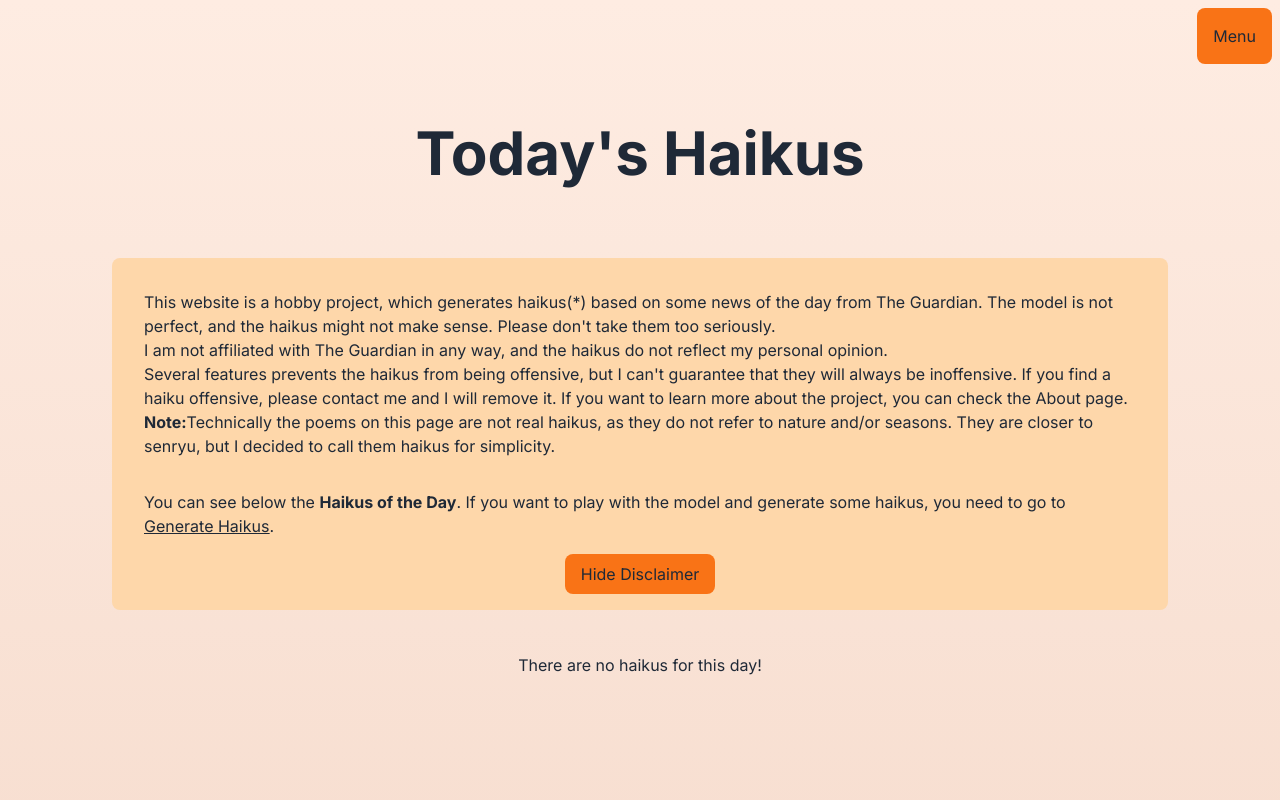
Test case: Visiting homepage › Visiting homepage - testing the disclaimer
Check: the heading "Today's Haikus" is shown, box [415,123,865,183]
Check: the text "This website is a hobby project" is shown, box [144,292,876,312]
Step 1. Click the button "Hide Disclaimer" → coordinates (641, 574), box [565,554,716,594]
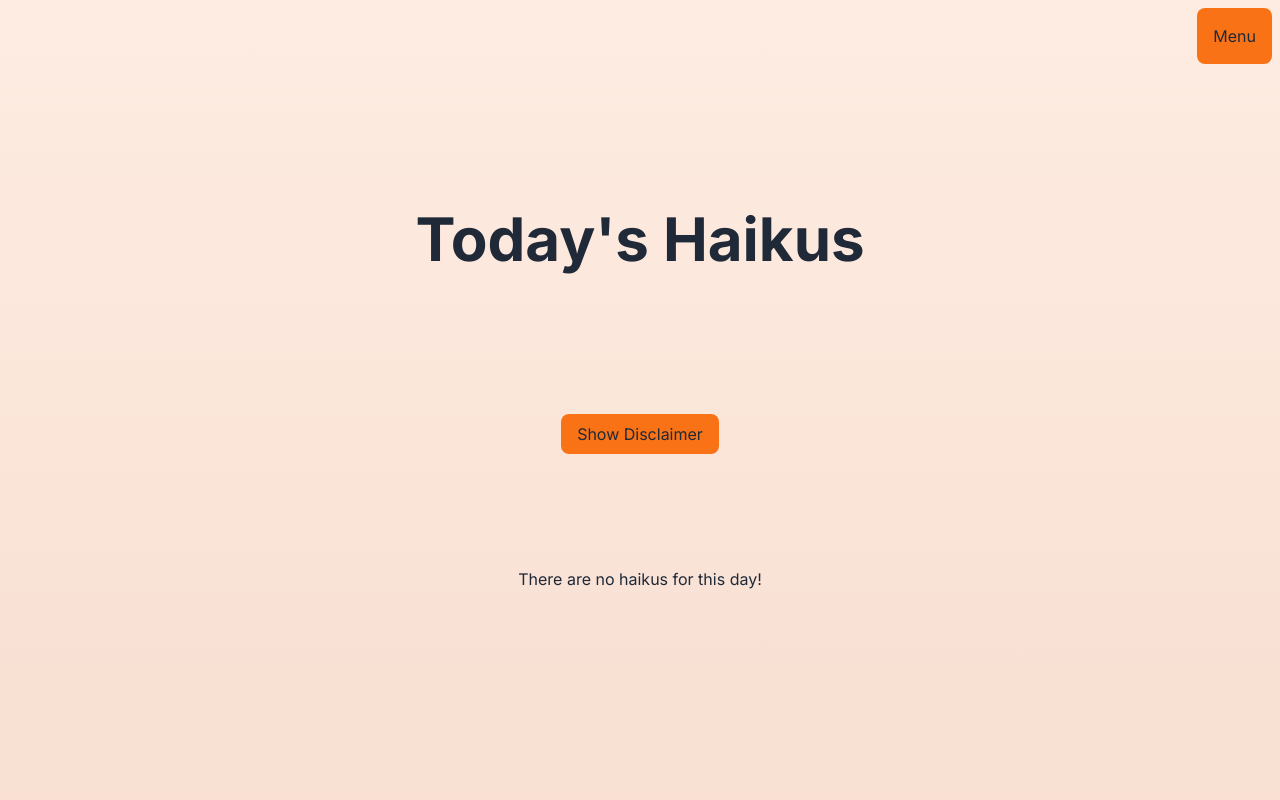
Check: the text "This website is a hobby project" is gone
